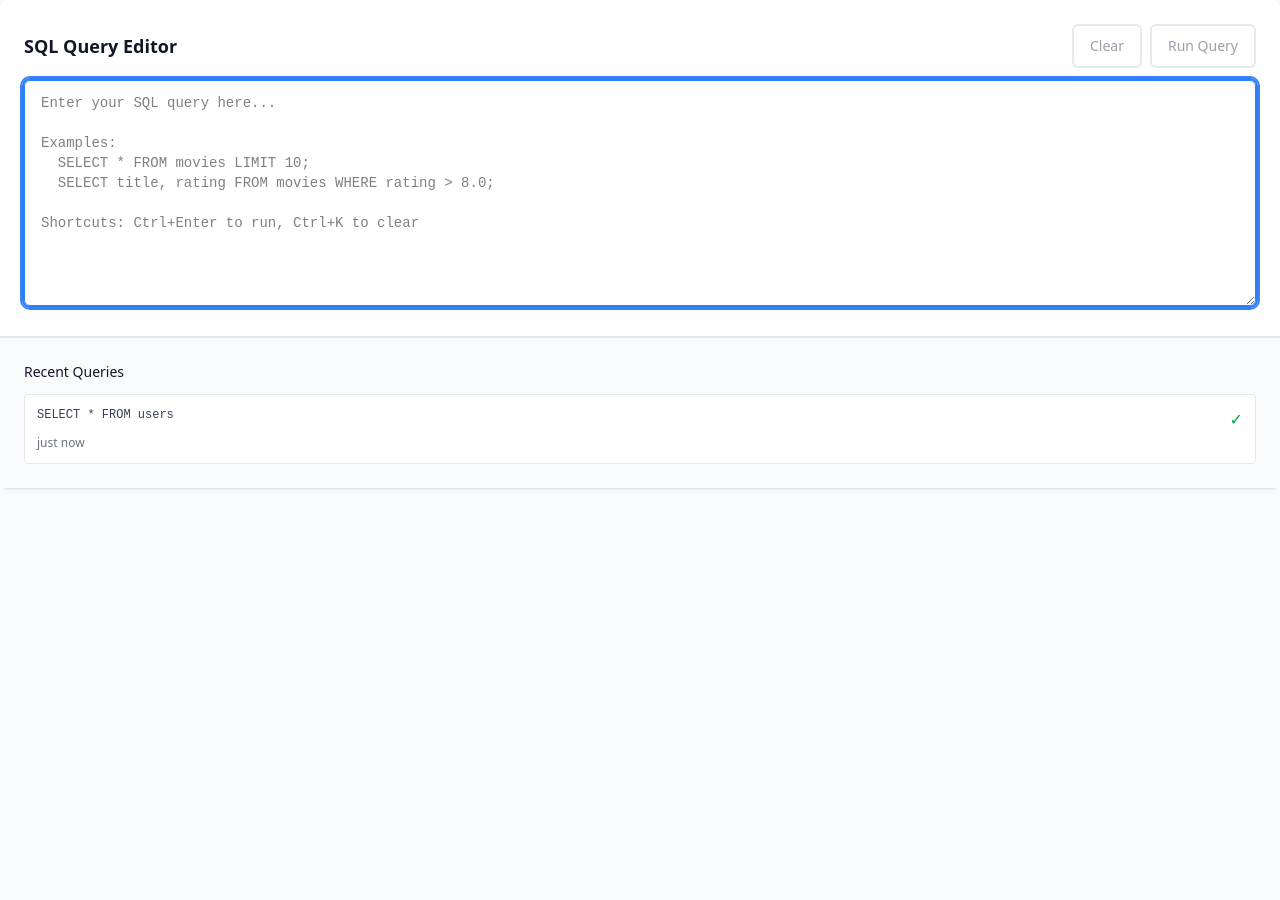
QueryEditor › Query Execution › shows "no rows" message when query returns empty result
The image size is (1280, 900).
In the text box named "sql query input": (640, 193) [24, 80, 1256, 306], type "SELECT * FROM users WHERE id = 999"
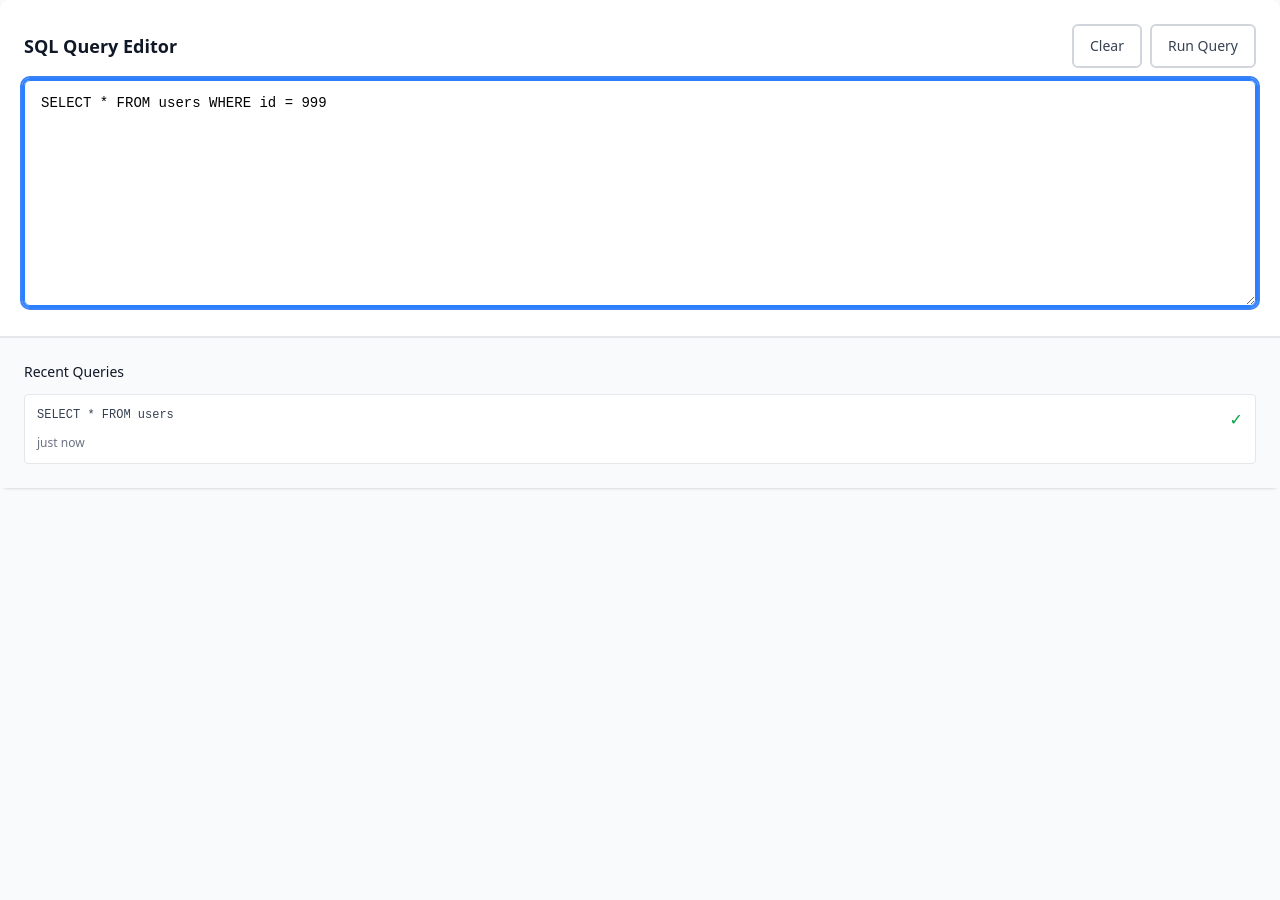
Click the button "Run Query": (1203, 46) [1150, 24, 1256, 68]
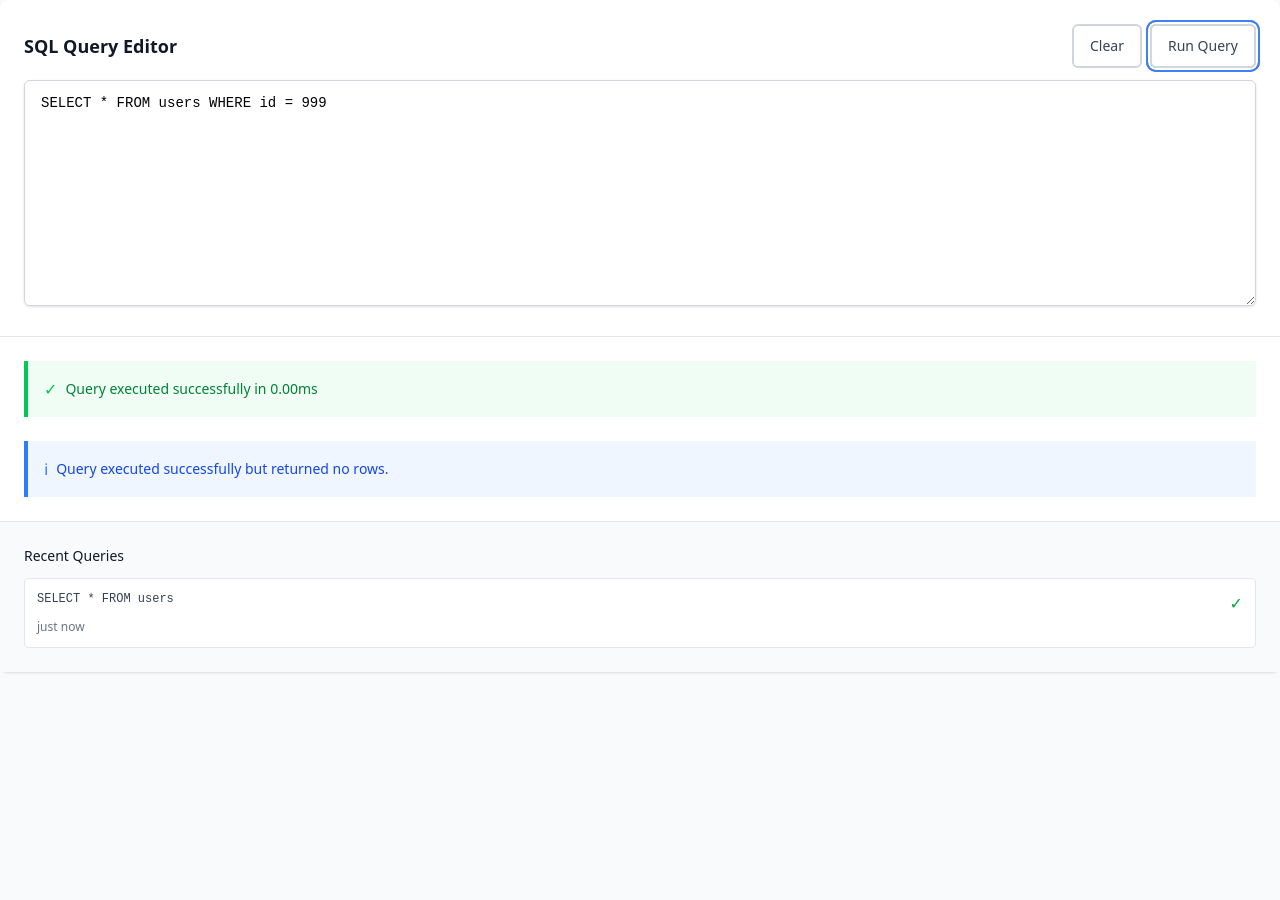
Expected: the text "Query executed successfully but returned no rows." is shown, [56, 459, 388, 479]
